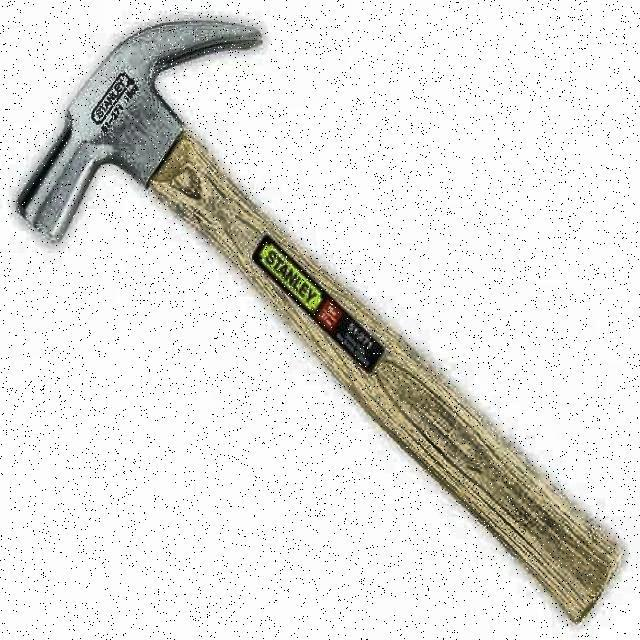hammer: (14, 16, 636, 640)
